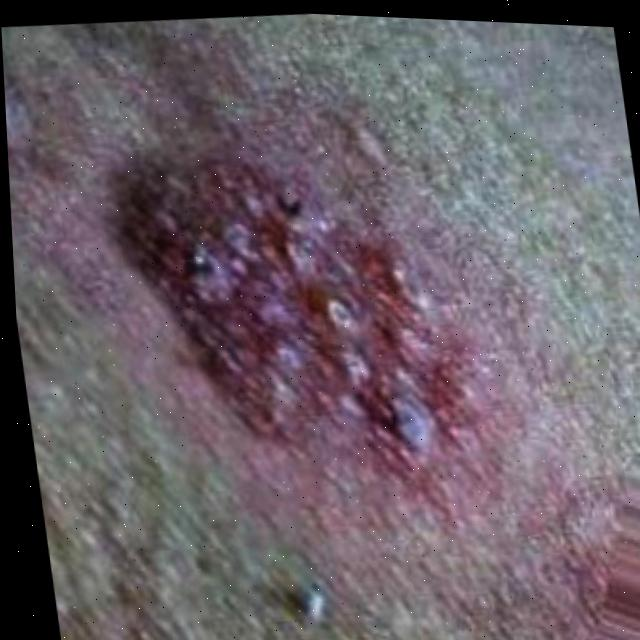Shingles: (112, 120, 501, 497), (3, 52, 20, 165)
